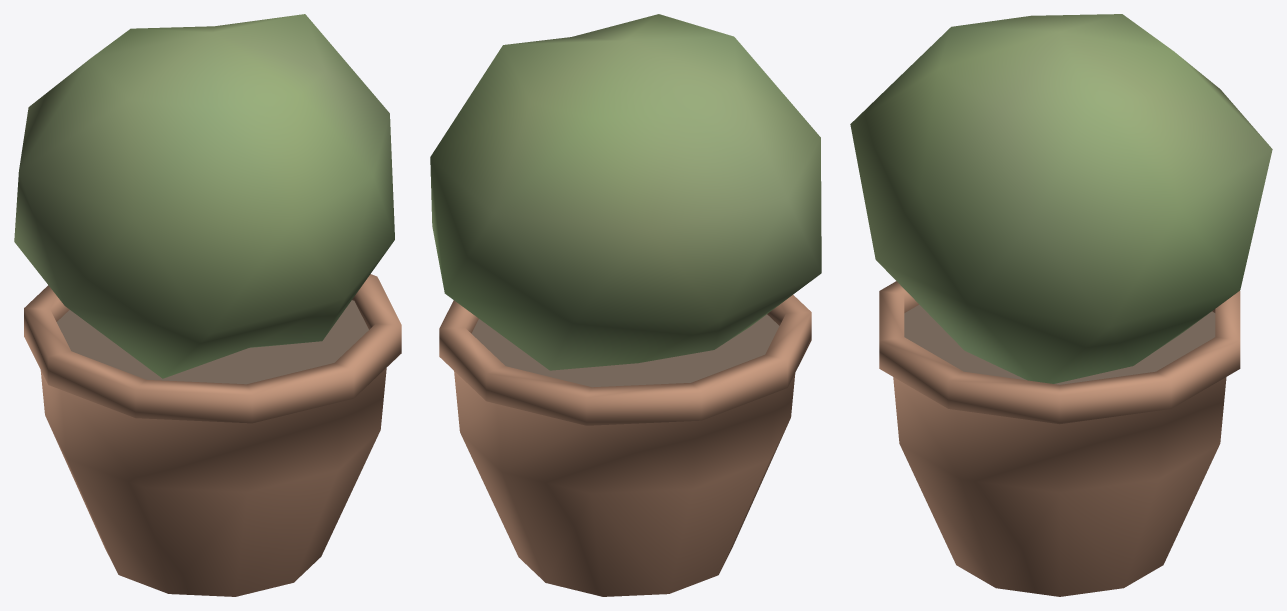
Rendered from SM_BM_BP_PotLarge.glb.
The picture shows the model from 3 angles, left to right: view 1: azimuth 30°, elevation 25°; view 2: azimuth 150°, elevation 25°; view 3: azimuth 270°, elevation 25°; orthographic projection.
Visible parts, largest first — view 1: SM_BM_BP_PotLarge; view 2: SM_BM_BP_PotLarge; view 3: SM_BM_BP_PotLarge.
Part boxes in pixels (box(x1,y1,x2,y2)): SM_BM_BP_PotLarge: box(14, 14, 401, 596); SM_BM_BP_PotLarge: box(430, 14, 821, 596); SM_BM_BP_PotLarge: box(850, 14, 1272, 596).
Size of the model in its own units: 0.9651 by 1.37 by 1.01.
